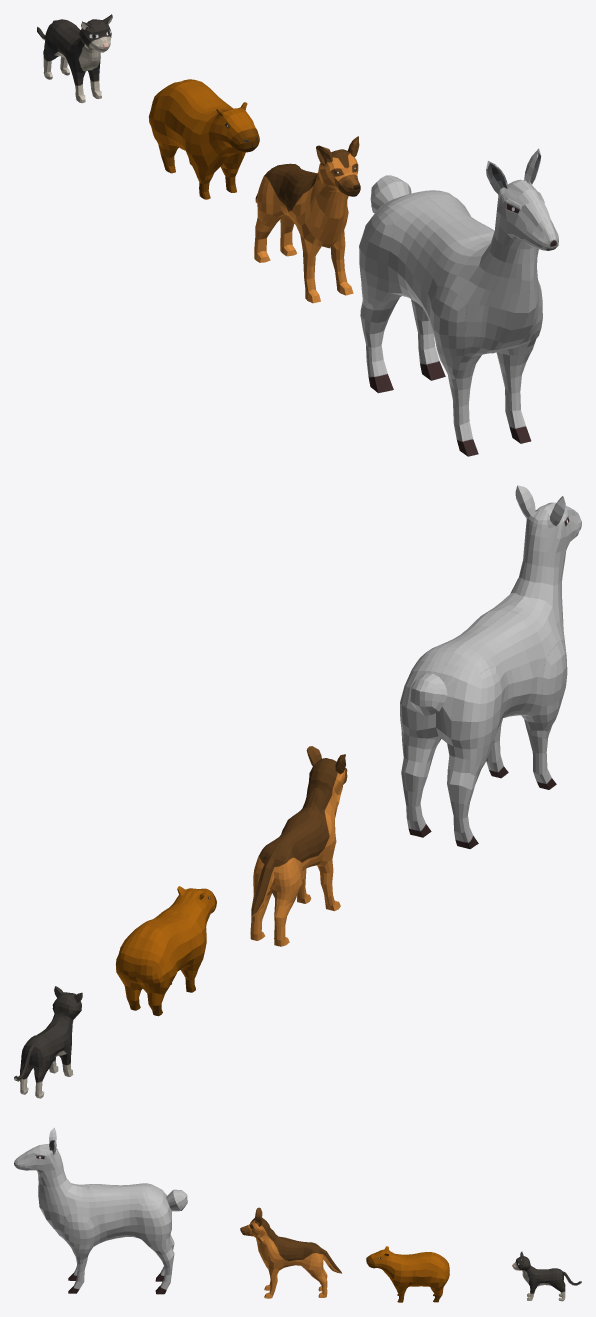
Rendered from animals.fbx.
3 renders of one model, top to bottom at view 1: azimuth 30°, elevation 25°; view 2: azimuth 150°, elevation 25°; view 3: azimuth 270°, elevation 25°, orthographic. The views are drawn at different scales.
Visible parts, largest first — view 1: Llama, perrito, Capybara, Gato; view 2: Llama, perrito, Capybara, Gato; view 3: Llama, perrito, Capybara, Gato.
Boxes of the visible parts, left/top/right/bottom form: Llama: left=359, top=148, right=558, bottom=456; perrito: left=254, top=136, right=360, bottom=303; Capybara: left=148, top=79, right=259, bottom=199; Gato: left=37, top=14, right=112, bottom=103; Llama: left=400, top=485, right=581, bottom=848; perrito: left=250, top=746, right=347, bottom=946; Capybara: left=115, top=886, right=216, bottom=1016; Gato: left=14, top=986, right=82, bottom=1098; Llama: left=14, top=1127, right=187, bottom=1294; perrito: left=240, top=1207, right=341, bottom=1298; Capybara: left=366, top=1246, right=449, bottom=1302; Gato: left=512, top=1251, right=581, bottom=1301.
Size of the model in its own units: 374 by 844 by 2848.
1 material, 1 textured.
